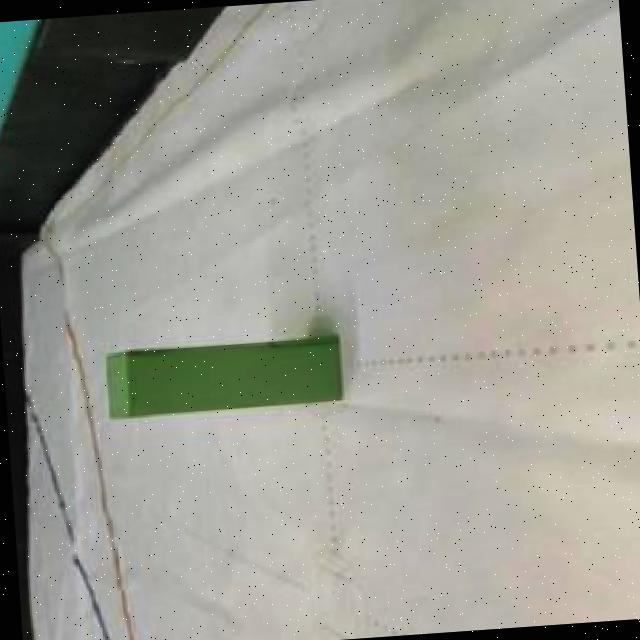greenbox: (99, 332, 348, 426)
